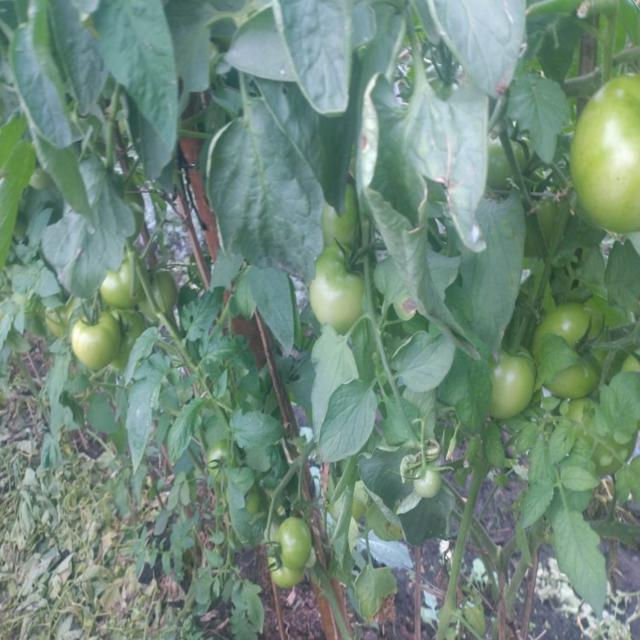tomato: (571, 71, 640, 237), (534, 302, 606, 396), (571, 403, 640, 476), (308, 252, 374, 328), (70, 312, 123, 374), (489, 354, 536, 419), (323, 185, 368, 245), (492, 134, 530, 186), (143, 266, 178, 320), (277, 517, 314, 567), (268, 549, 311, 592), (105, 256, 139, 307), (122, 315, 151, 362), (206, 443, 234, 474), (416, 465, 443, 497), (47, 309, 70, 343)
